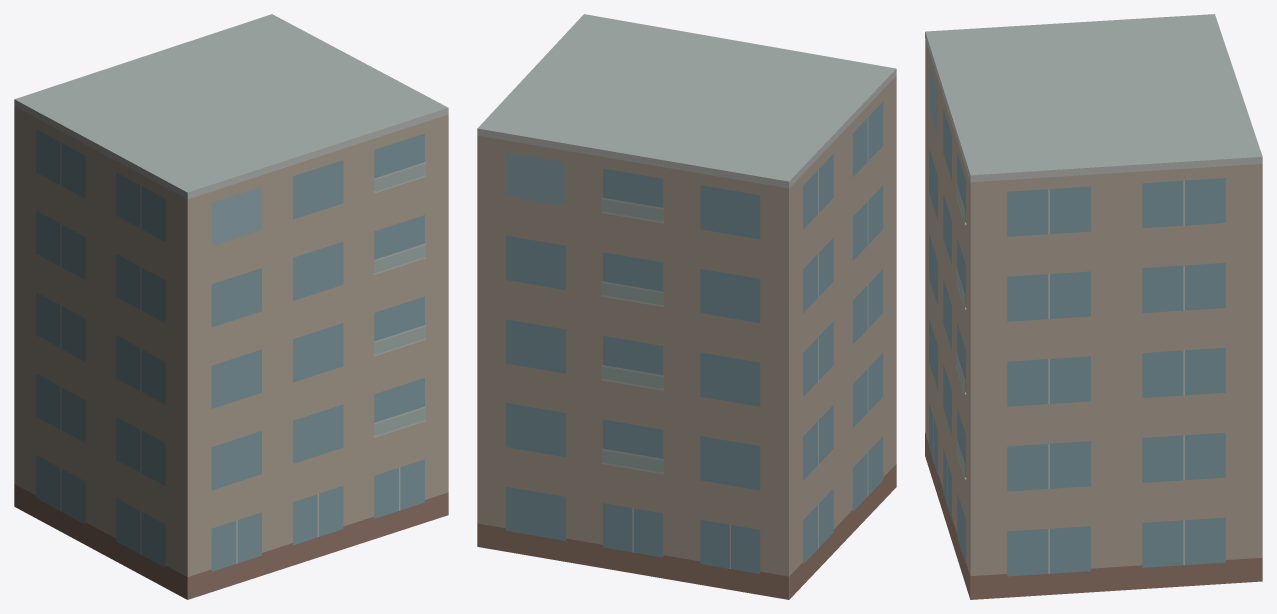
The model's file is survey-upis-32746801.glb.
The picture shows the model from 3 angles, left to right: view 1: azimuth 30°, elevation 25°; view 2: azimuth 150°, elevation 25°; view 3: azimuth 270°, elevation 25°; orthographic projection. The views are drawn at different scales.
Visible parts, largest first — view 1: survey-upis-32746801.tmp; view 2: survey-upis-32746801.tmp; view 3: survey-upis-32746801.tmp.
Part boxes in pixels (box(x1,y1,x2,y2)): survey-upis-32746801.tmp: box(14, 14, 448, 599); survey-upis-32746801.tmp: box(477, 14, 896, 599); survey-upis-32746801.tmp: box(925, 14, 1262, 599).
Bounding box in the file's own units: 11.99 × 14.7 × 10.6.
